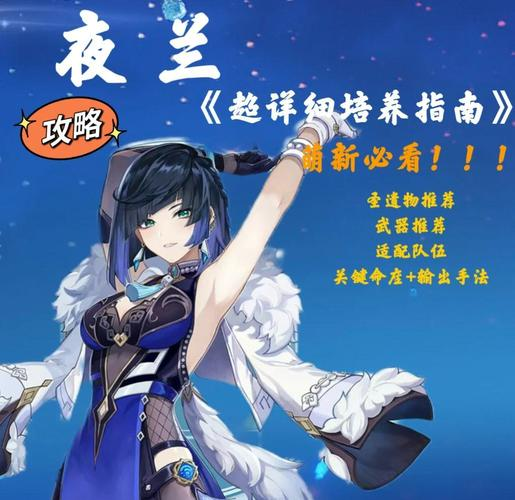夜兰: (51, 115, 361, 499)
